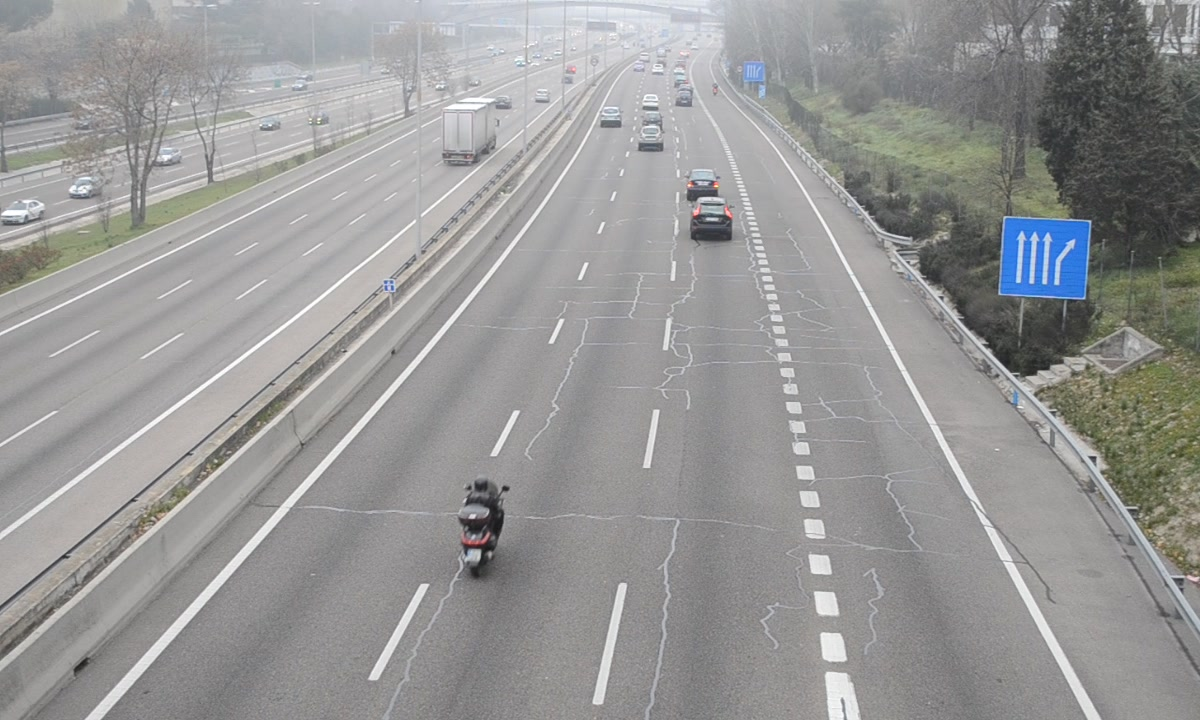car: (688, 197, 734, 237), (685, 169, 719, 199), (636, 124, 665, 151)
motorcycle: (457, 474, 509, 574)
